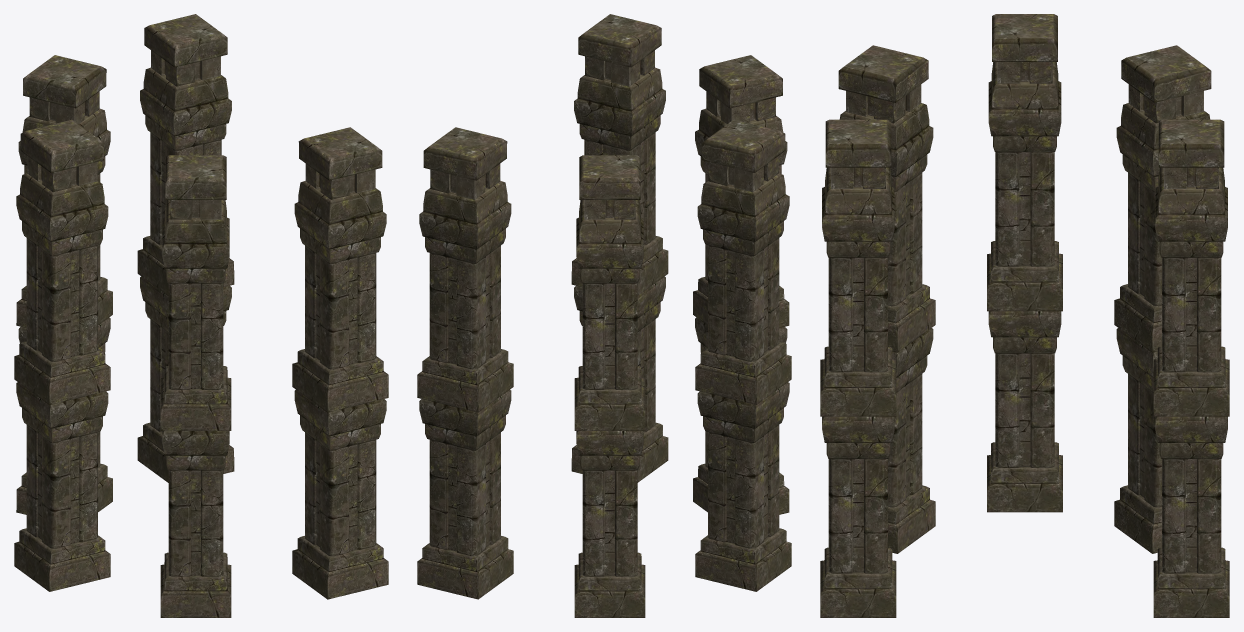
The model's file is Column_Group_02-transformed.glb.
3 renders of one model, left to right at view 1: azimuth 30°, elevation 25°; view 2: azimuth 150°, elevation 25°; view 3: azimuth 270°, elevation 25°, orthographic. The views are drawn at different scales.
Visible parts, largest first — view 1: default; view 2: default; view 3: default.
Part boxes in pixels (x1=…): default: x1=14, y1=14, x2=388, y2=617; default: x1=417, y1=14, x2=791, y2=617; default: x1=820, y1=14, x2=1229, y2=617.
Size of the model in its own units: 5.87 by 9.34 by 7.37.
1 material, 1 textured.
